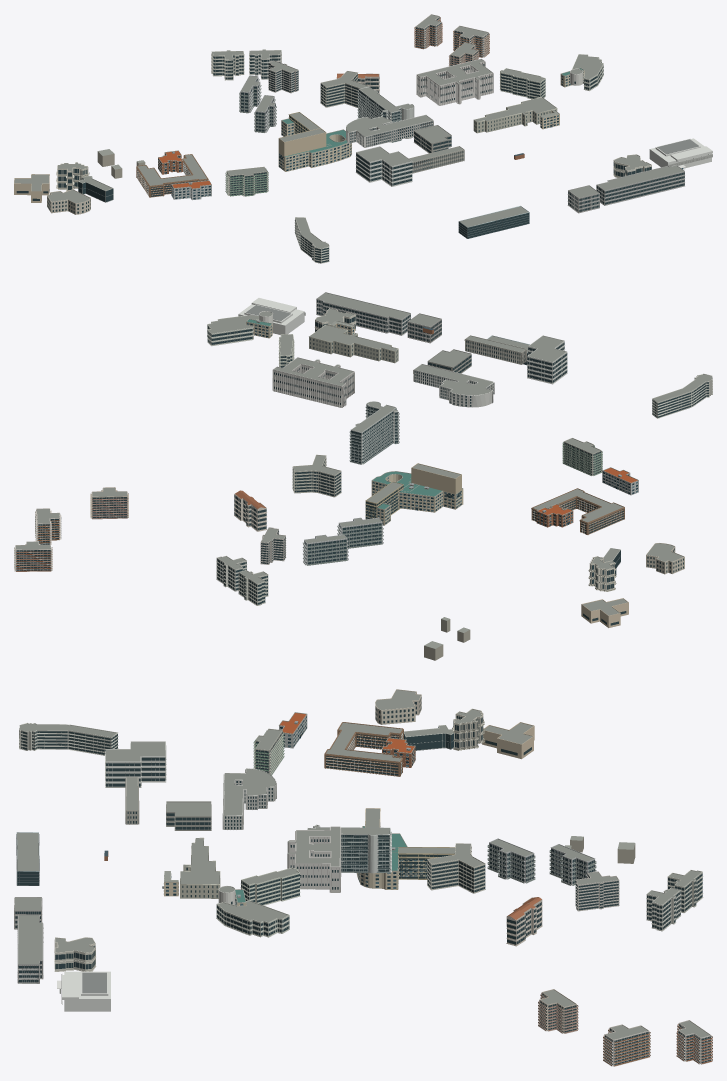
Rendered from zone_1_1-medium.glb.
3 renders of one model, top to bottom at view 1: azimuth 30°, elevation 25°; view 2: azimuth 150°, elevation 25°; view 3: azimuth 270°, elevation 25°, orthographic. The views are drawn at different scales.
Parts seen in each view (by area): view 1: web_building_2325105, web_building_107139024, web_building_3086286, web_building_10266054, web_building_1344748884, web_building_135193913, web_building_191713160, web_building_194547401, web_building_107139030, web_building_135193165, web_building_135193917, web_building_135315191 (+22 smaller); view 2: web_building_2325105, web_building_10266054, web_building_135193165, web_building_3086286, web_building_107139024, web_building_135193913, web_building_194547401, web_building_1344748884, web_building_135193917, web_building_135265381, web_building_135264069, web_building_107139030 (+20 smaller); view 3: web_building_194547401, web_building_2325105, web_building_135265381, web_building_1344748884, web_building_135193165, web_building_3086286, web_building_135193917, web_building_107139030, web_building_135904891, web_building_107139024, web_building_135193913, web_building_135265382 (+23 smaller).
Part boxes in pixels (x1,y1,x2,y2): web_building_2325105: [416, 58, 493, 105]; web_building_107139024: [596, 165, 684, 205]; web_building_3086286: [346, 114, 433, 147]; web_building_10266054: [278, 118, 351, 171]; web_building_1344748884: [356, 146, 412, 186]; web_building_135193913: [473, 97, 557, 133]; web_building_191713160: [458, 205, 529, 238]; web_building_194547401: [136, 154, 208, 197]; web_building_107139030: [649, 138, 712, 169]; web_building_135193165: [357, 86, 414, 142]; web_building_135193917: [320, 71, 368, 108]; web_building_135315191: [225, 166, 268, 196]; web_building_2325105: [272, 357, 354, 407]; web_building_10266054: [366, 471, 463, 525]; web_building_135193165: [349, 401, 399, 464]; web_building_3086286: [413, 364, 494, 407]; web_building_107139024: [316, 292, 410, 335]; web_building_135193913: [309, 324, 398, 363]; web_building_194547401: [531, 488, 624, 534]; web_building_1344748884: [527, 335, 567, 384]; web_building_135193917: [292, 454, 341, 497]; web_building_135265381: [652, 373, 712, 418]; web_building_135264069: [302, 534, 348, 565]; web_building_107139030: [238, 298, 305, 334]; web_building_194547401: [324, 722, 403, 776]; web_building_2325105: [287, 826, 341, 892]; web_building_135265381: [19, 722, 118, 755]; web_building_1344748884: [105, 741, 166, 787]; web_building_135193165: [307, 824, 391, 873]; web_building_3086286: [222, 768, 276, 829]; web_building_135193917: [427, 843, 485, 893]; web_building_107139030: [57, 971, 110, 1011]; web_building_135904891: [216, 900, 289, 937]; web_building_107139024: [17, 914, 43, 983]; web_building_135193913: [180, 837, 220, 898]; web_building_135265382: [603, 1024, 650, 1066].
Size of the model in its own units: 622 by 146 by 556.
